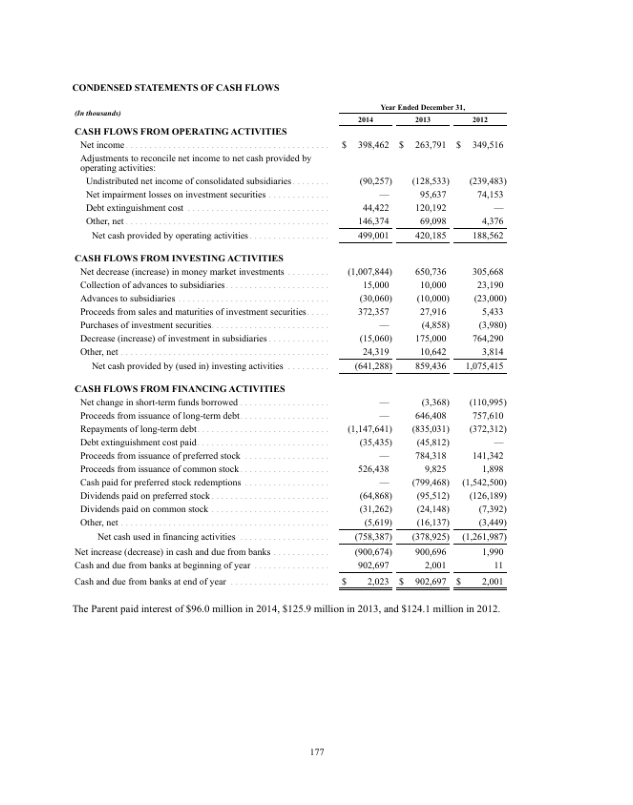table: (337, 97, 513, 590)
